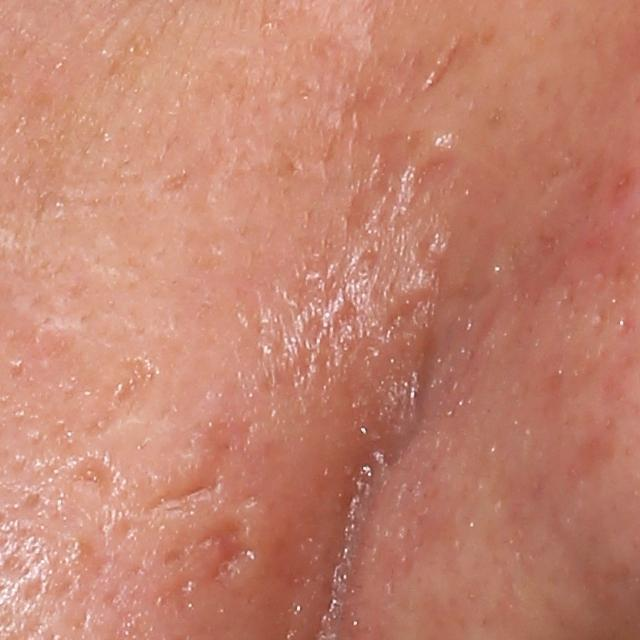atrophic_scar: (83, 355, 153, 443), (136, 471, 232, 520), (193, 513, 249, 584), (404, 148, 458, 201), (367, 129, 402, 200), (66, 451, 115, 497), (422, 37, 461, 91)
